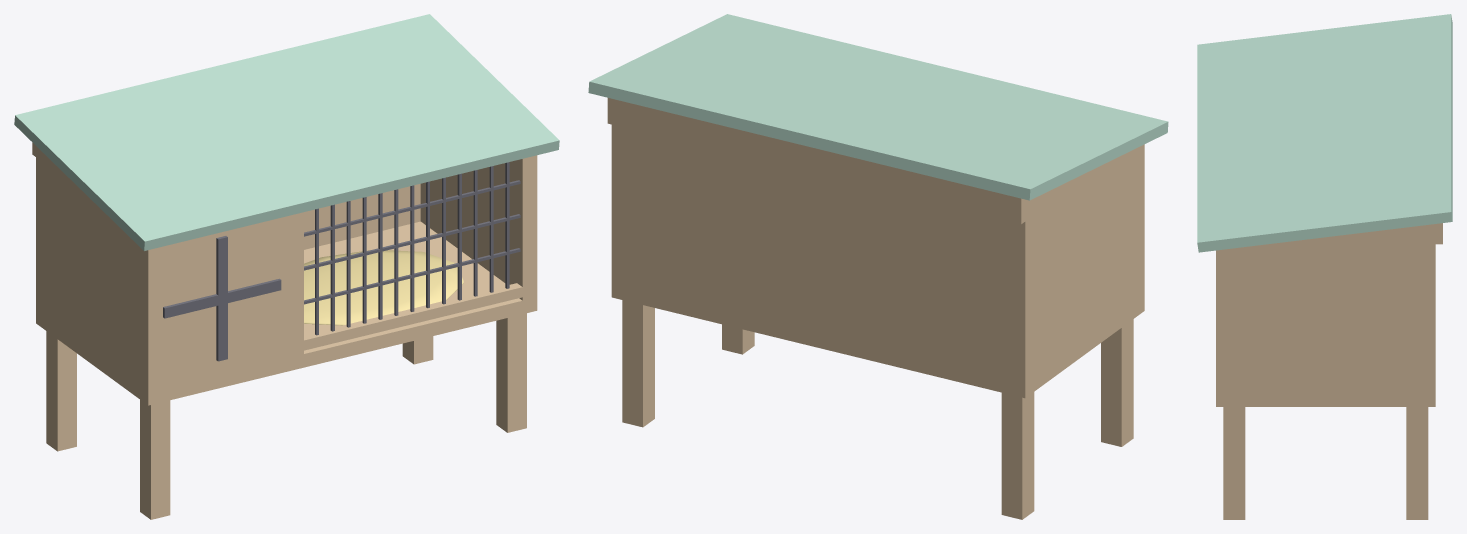
File: companion-animals-and-pet-home-hutch-c2382e29__20625.glb
3 renders of one model, left to right at view 1: azimuth 30°, elevation 25°; view 2: azimuth 150°, elevation 25°; view 3: azimuth 270°, elevation 25°, orthographic. The views are drawn at different scales.
Parts seen in each view (by area): view 1: hutch; view 2: hutch; view 3: hutch.
Boxes of the visible parts, x1,y1,x2,y2 form: hutch: [14, 14, 559, 519]; hutch: [588, 14, 1168, 519]; hutch: [1197, 14, 1452, 519].
Size of the model in its own units: 1.28 by 0.9561 by 0.6979.
